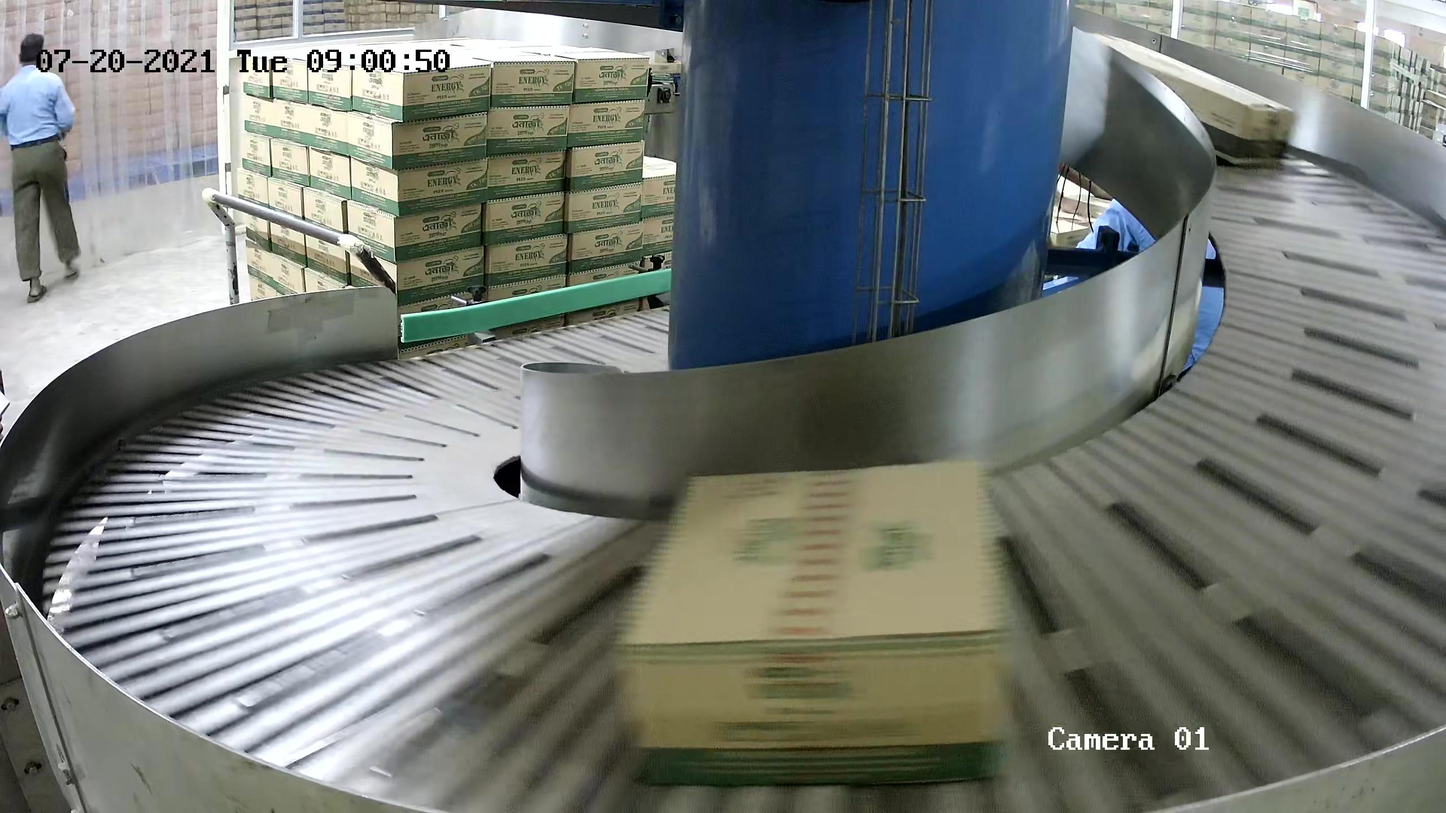Box: (613, 449, 1021, 789), (1060, 30, 1297, 167)
